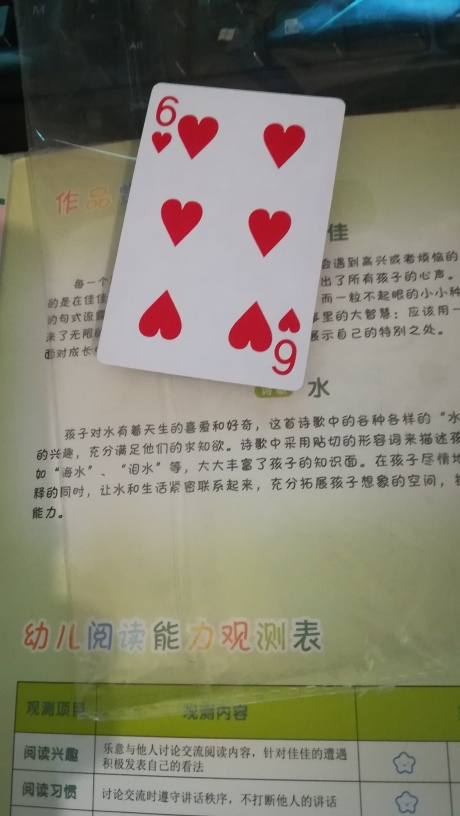hx 6: (96, 79, 344, 402)
